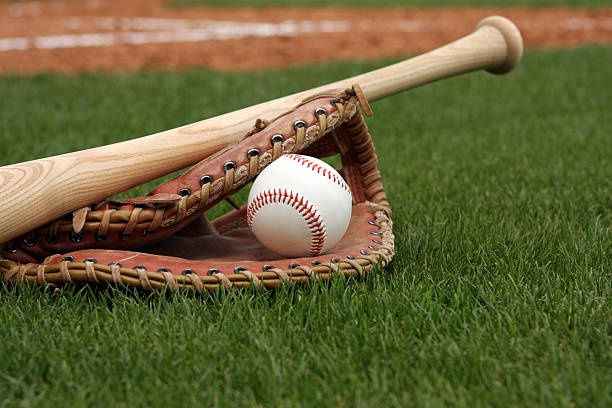bita: (1, 17, 520, 240)
